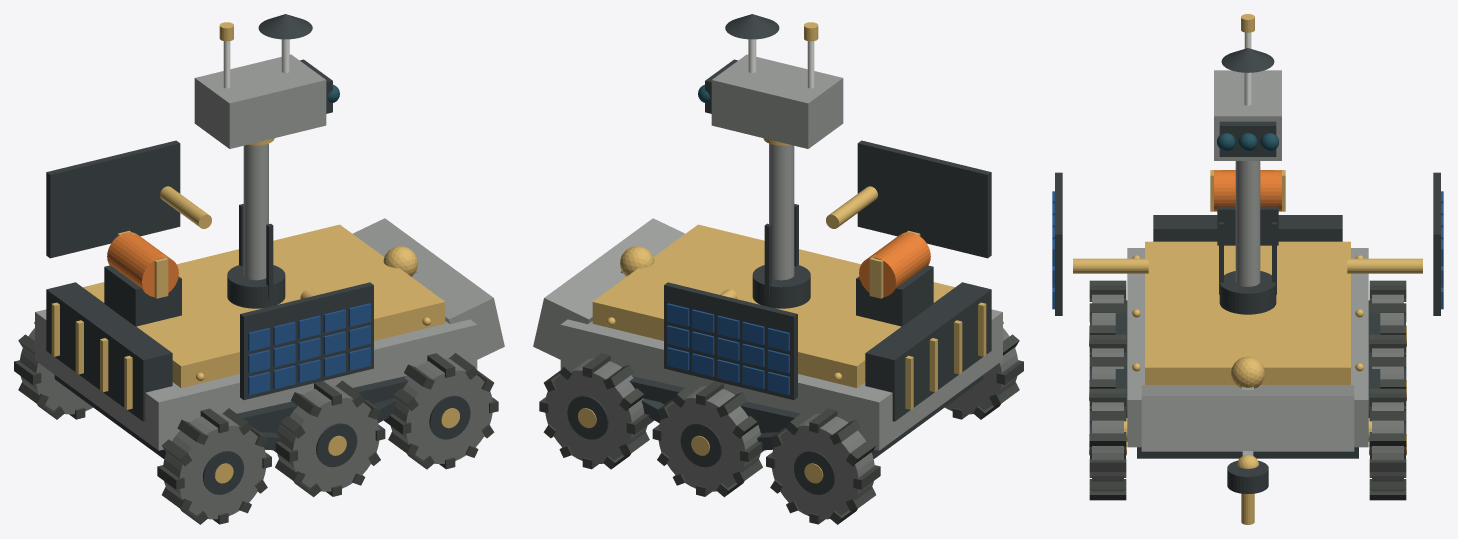
The model's file is vehicle-mars-rover-001.glb.
3 renders of one model, left to right at view 1: azimuth 30°, elevation 25°; view 2: azimuth 150°, elevation 25°; view 3: azimuth 270°, elevation 25°, orthographic. The views are drawn at different scales.
Parts seen in each view (by area): view 1: equipment_deck, chassis_main, solar_panel_L, camera_head, rear_radiator, solar_panel_R, wheel_R_2, front_nose, wheel_R_1, wheel_R_0, mast, rtg_mount (+13 smaller); view 2: equipment_deck, chassis_main, solar_panel_R, camera_head, rear_radiator, solar_panel_L, wheel_L_2, front_nose, wheel_L_1, wheel_L_0, mast, rtg_mount (+13 smaller); view 3: equipment_deck, front_nose, chassis_main, camera_head, rear_radiator, mast, mast_base, chassis_lower, rtg_core, wheel_L_0, wheel_R_0, camera_front (+18 smaller).
Part boxes in pixels (box(x1,y1,x2,y2)): equipment_deck: box(83, 224, 445, 387); chassis_main: box(35, 309, 477, 450); solar_panel_L: box(46, 140, 180, 258); camera_head: box(194, 54, 326, 148); rear_radiator: box(46, 282, 172, 421); solar_panel_R: box(240, 282, 373, 399); wheel_R_2: box(163, 413, 266, 519); front_nose: box(353, 218, 504, 359); wheel_R_1: box(277, 386, 379, 491); wheel_R_0: box(390, 358, 492, 463); mast: box(243, 143, 268, 280); rtg_mount: box(104, 265, 181, 326); equipment_deck: box(592, 224, 954, 387); chassis_main: box(560, 309, 1002, 450); solar_panel_R: box(857, 140, 991, 258); camera_head: box(711, 54, 843, 148); rear_radiator: box(865, 282, 991, 421); solar_panel_L: box(664, 282, 797, 399); wheel_L_2: box(771, 413, 874, 519); front_nose: box(533, 218, 684, 359); wheel_L_1: box(658, 386, 760, 491); wheel_L_0: box(545, 358, 647, 463); mast: box(769, 143, 794, 280); rtg_mount: box(856, 265, 933, 326); equipment_deck: box(1145, 241, 1350, 384); front_nose: box(1141, 385, 1354, 451); chassis_main: box(1127, 248, 1368, 447); camera_head: box(1214, 70, 1281, 160); rear_radiator: box(1153, 215, 1342, 241); mast: box(1235, 161, 1260, 286); mast_base: box(1219, 271, 1276, 314); chassis_lower: box(1137, 447, 1358, 458); rtg_core: box(1214, 170, 1281, 211); wheel_L_0: box(1372, 402, 1403, 492); wheel_R_0: box(1092, 402, 1123, 492); camera_front: box(1219, 121, 1276, 156).
Bounding box in the file's own units: 4.69 × 4.76 × 4.14.
